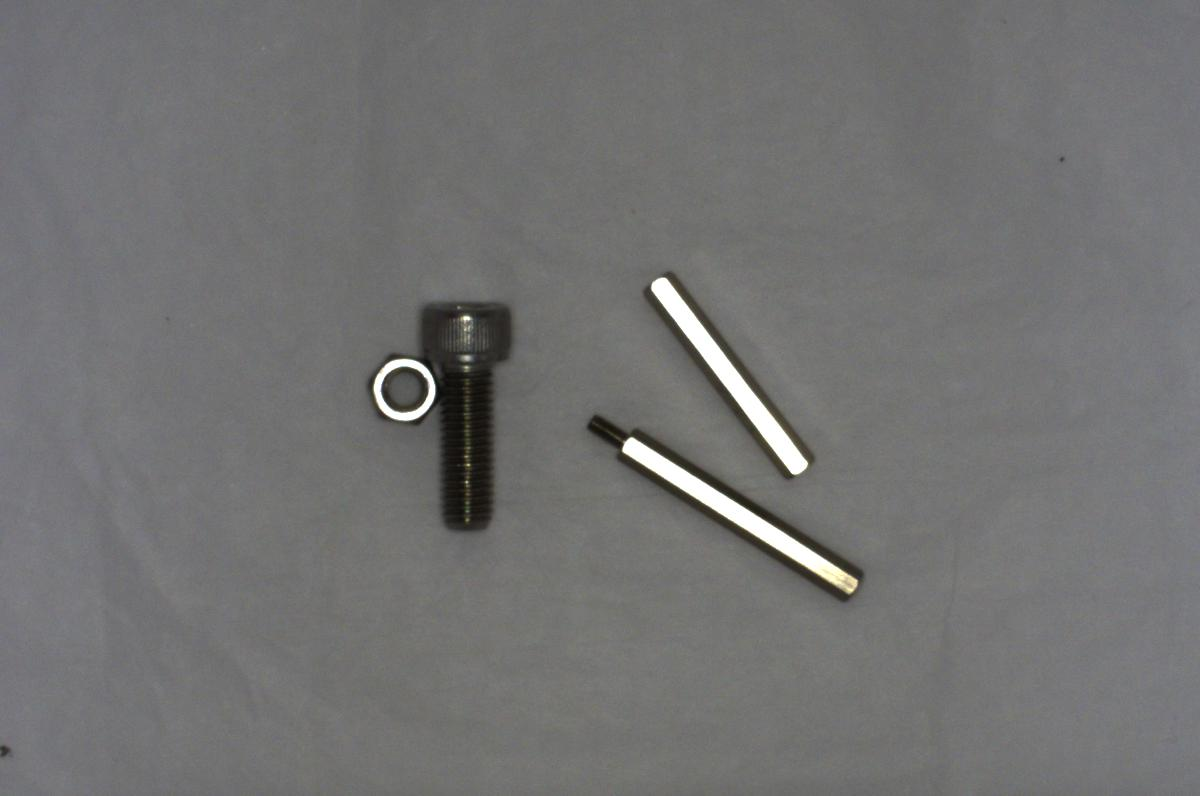Double hexagonal column: (642, 268, 814, 479)
Hexagon nut: (366, 349, 446, 430)
Hexagon screw: (414, 290, 520, 538)
Hexagonal steel column: (577, 410, 867, 607)
